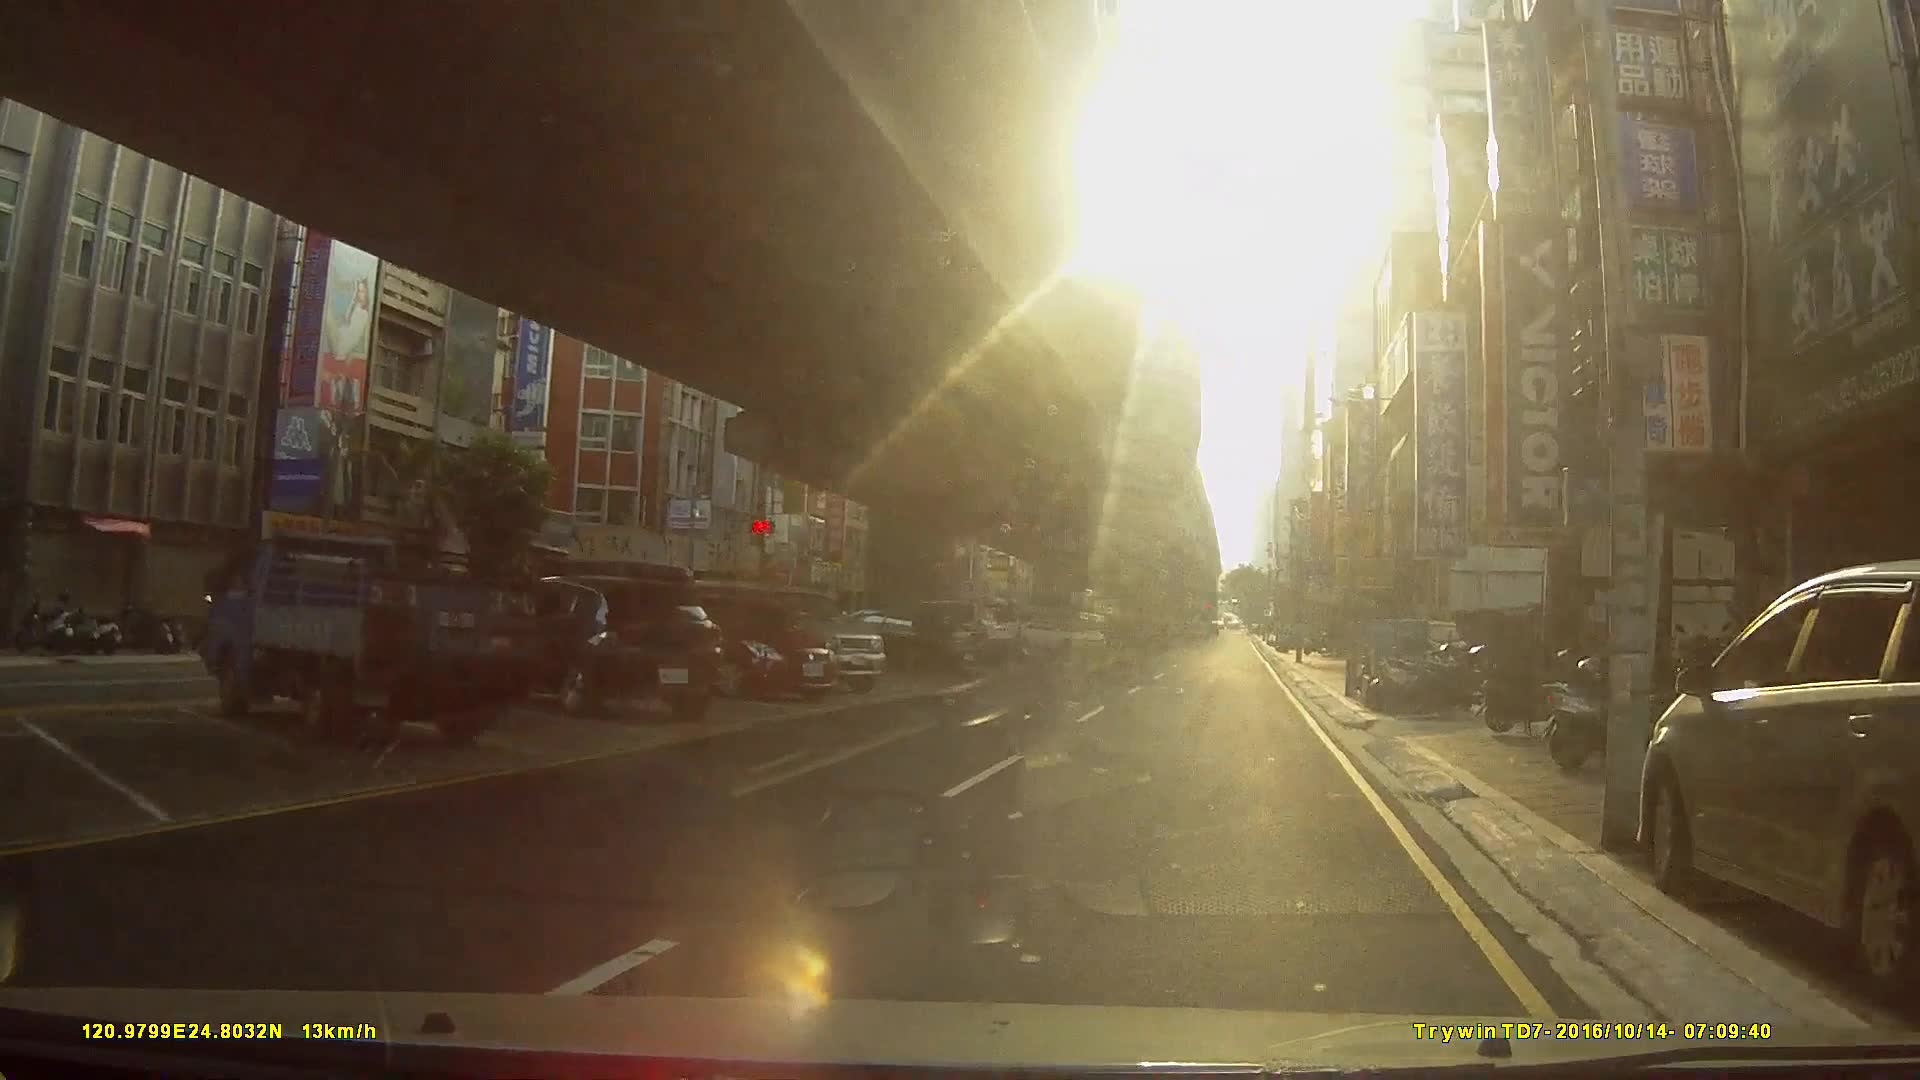vehicle: (1636, 558, 1920, 1014), (194, 530, 545, 749), (488, 575, 725, 724), (649, 593, 837, 702), (818, 612, 976, 676)
